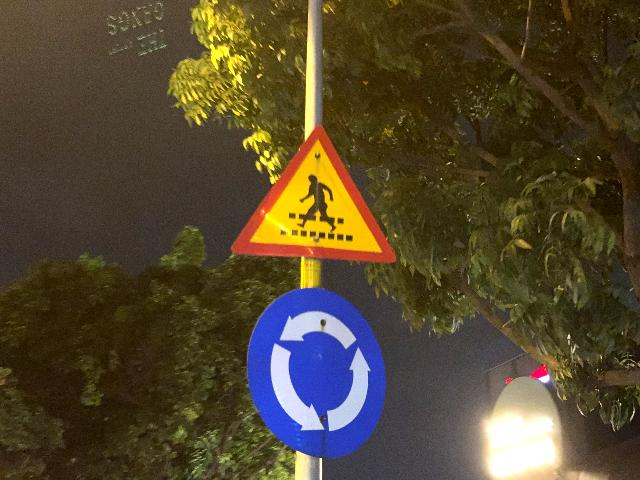duong-nguoi-di-bo-cat-ngang: (230, 121, 396, 263)
noi-giao-nhau-chay-theo-vong-xuyen: (245, 287, 387, 460)
